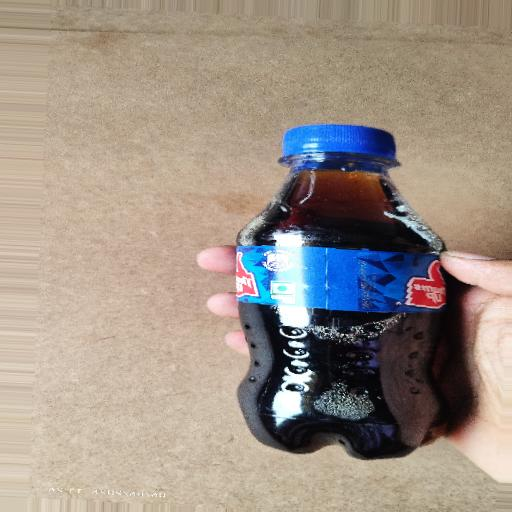Thumps Up: (199, 107, 465, 466)
